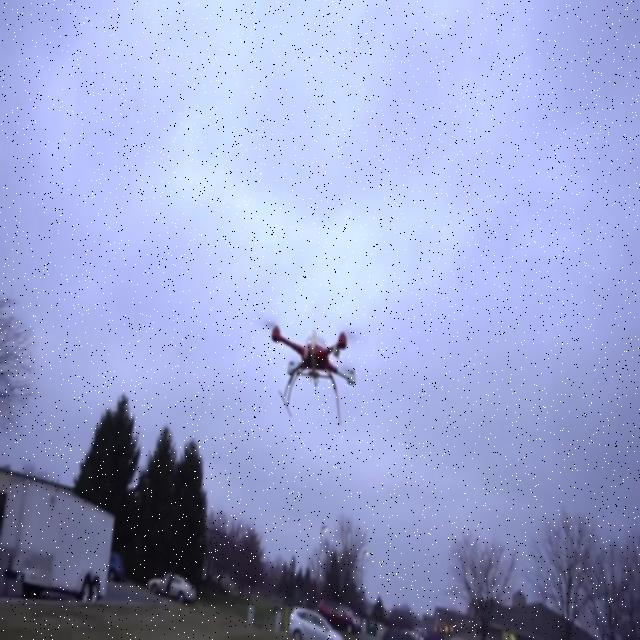UAV: (265, 319, 355, 425)
